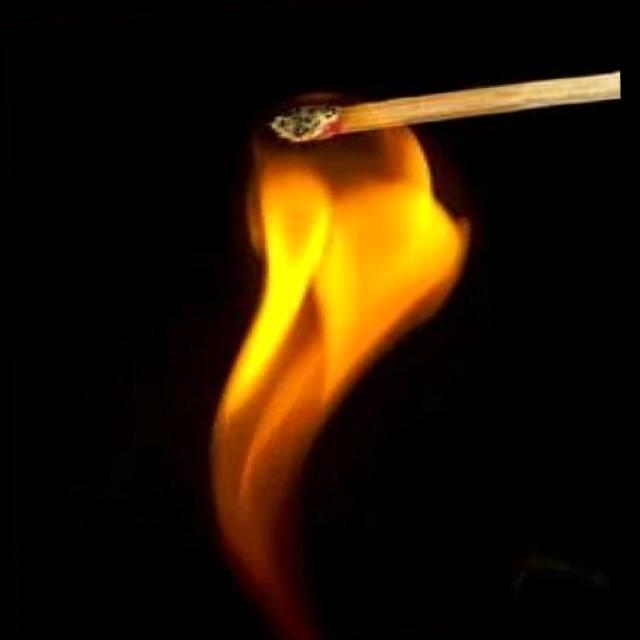fire: (173, 85, 491, 640)
